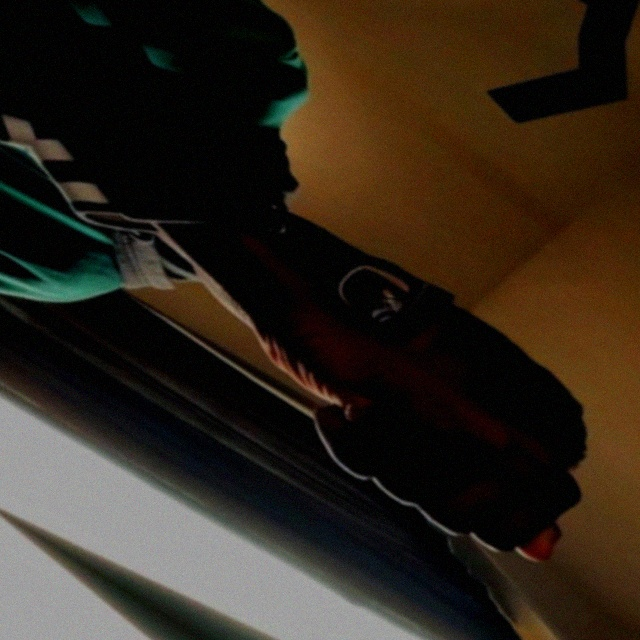Rock: (206, 282, 640, 596)
